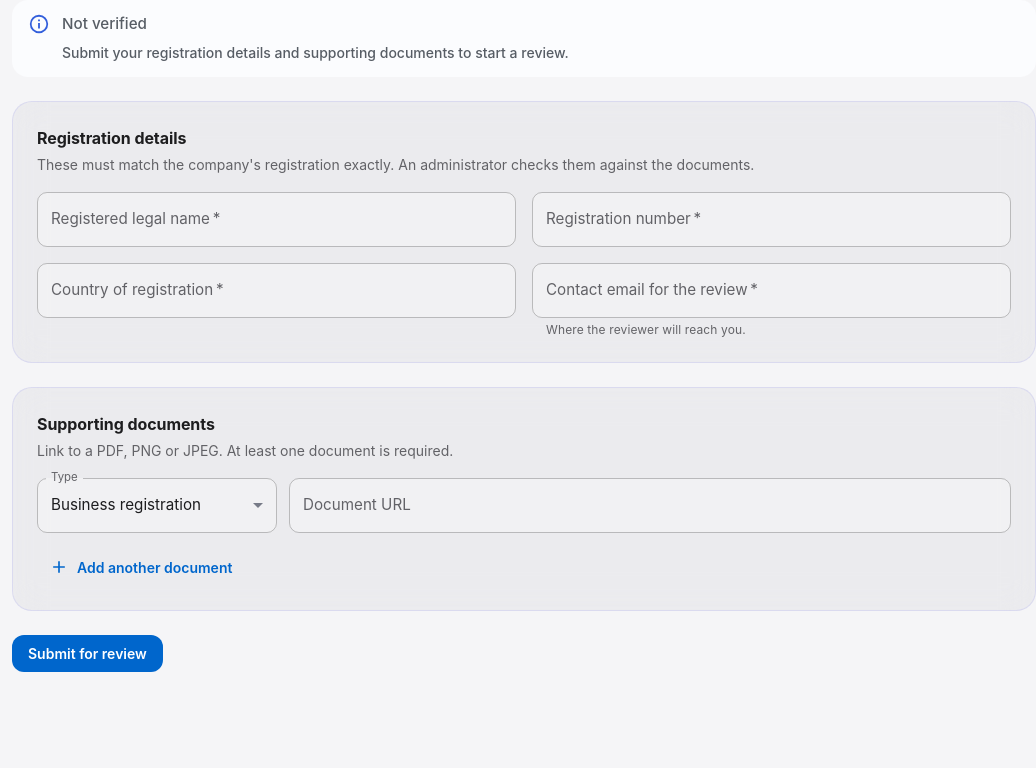
it: CompanyVerification › submitting does not make the company verified
Expected: the text "Not verified" is shown, top-left (62, 14), bottom-right (147, 33)
Type "Northwind Logistics FZE" into the field labelled "Registered legal name *".
click(276, 219); type("Northwind Logistics FZE")  # box top-left (37, 192), bottom-right (516, 247)
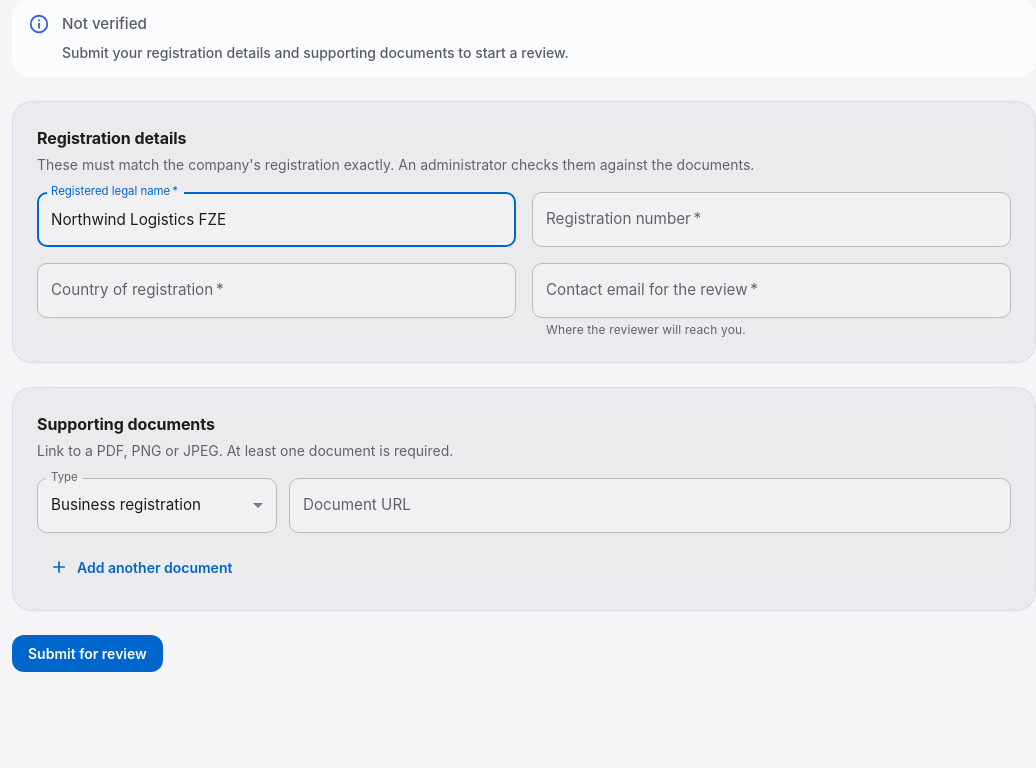
Type "FZE-119284" into the field labelled "Registration number *".
click(772, 219); type("FZE-119284")  # box top-left (532, 192), bottom-right (1011, 247)
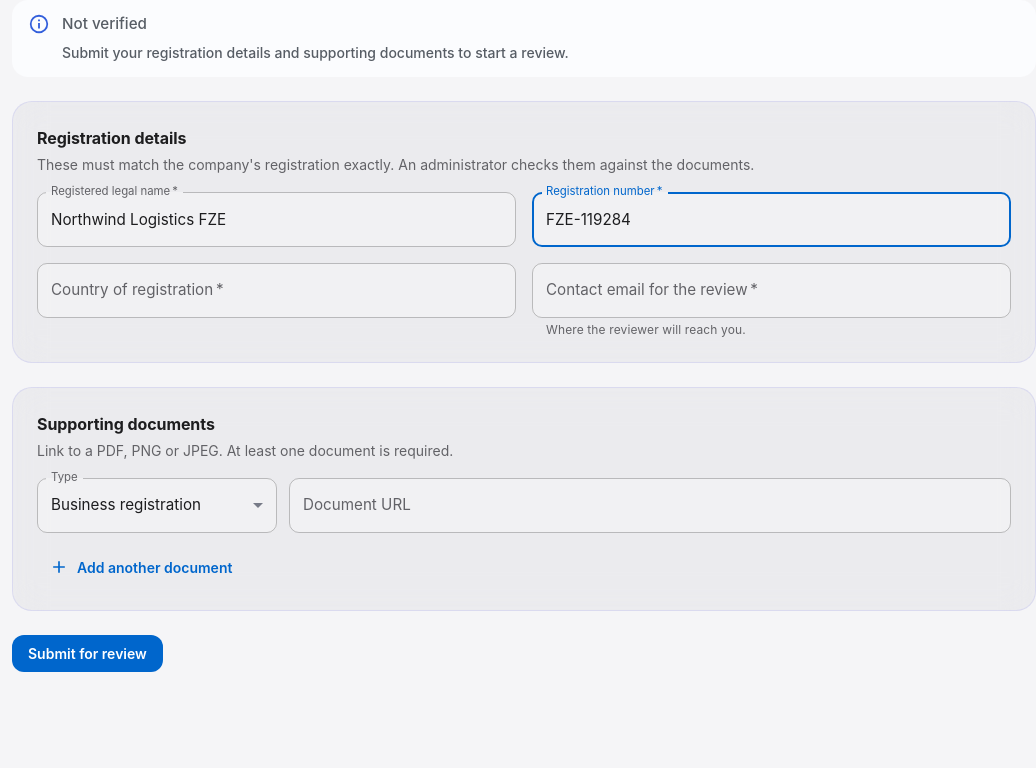
Type "United Arab Emirates" into the field labelled "Country of registration *".
click(276, 290); type("United Arab Emirates")  # box top-left (37, 263), bottom-right (516, 318)
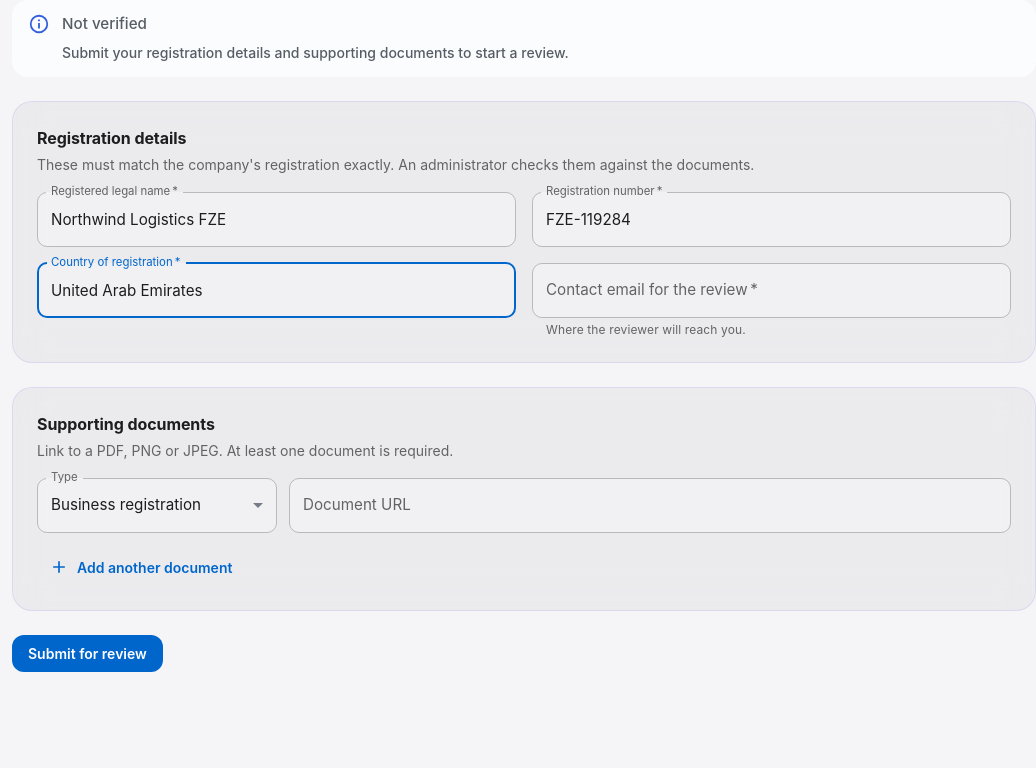
Type "legal@northwind.example" into the field labelled "Contact email for the review *".
click(772, 290); type("legal@northwind.example")  # box top-left (532, 263), bottom-right (1011, 318)
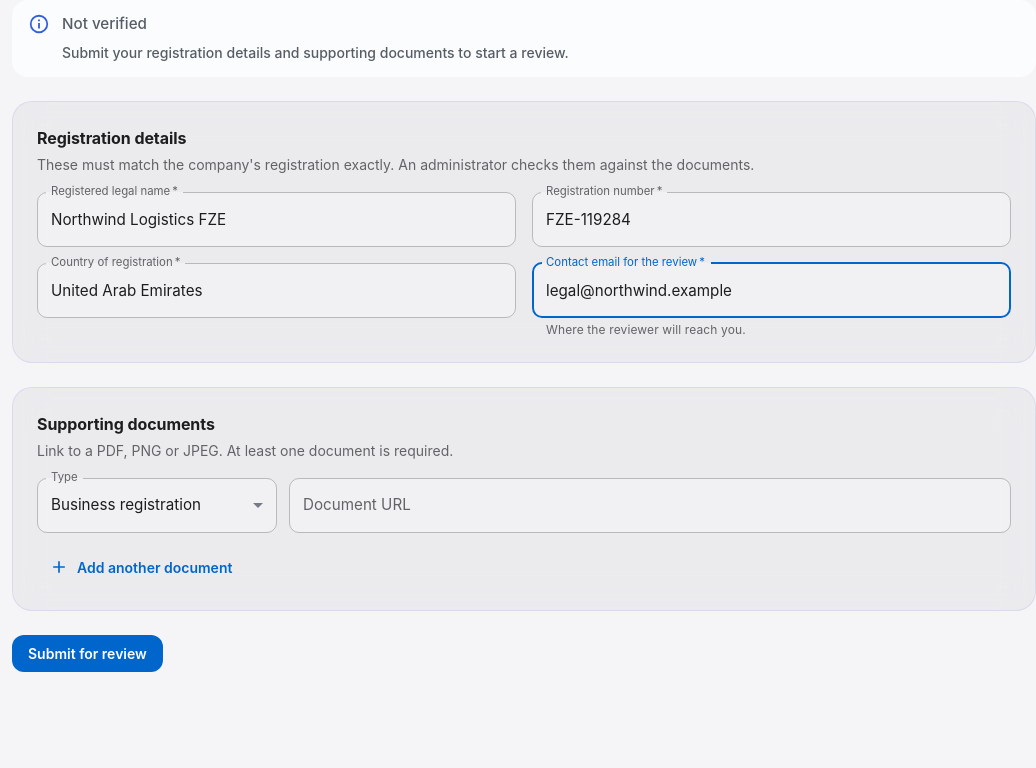
Type "https://northwind.example/docs/registration.pdf" into the field labelled "Document URL".
click(650, 505); type("https://northwind.example/docs/registration.pdf")  # box top-left (289, 478), bottom-right (1011, 533)
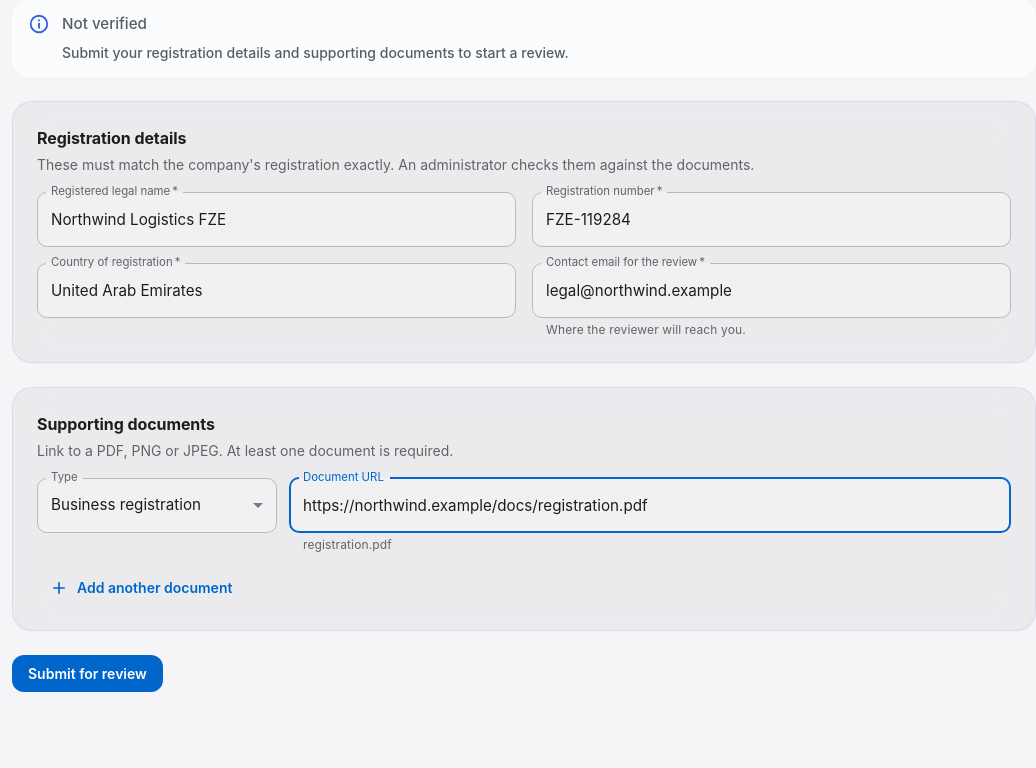
Click the button "Submit for review".
click(87, 674)  # box top-left (12, 655), bottom-right (163, 692)
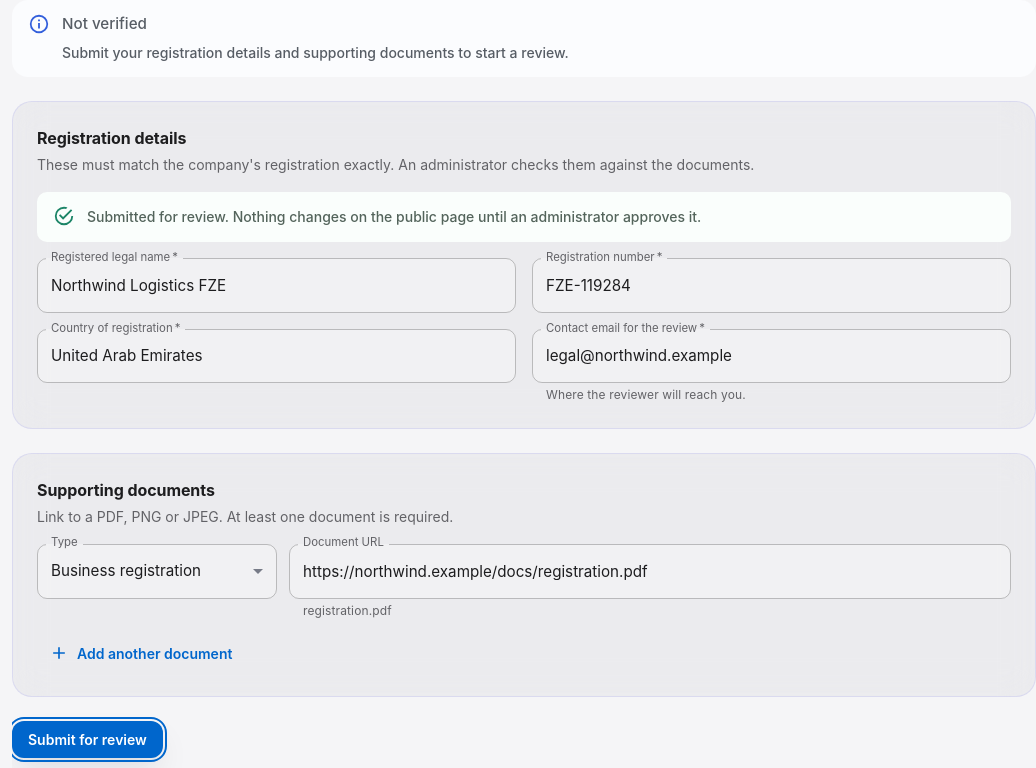
Expected: the text "Not verified" is shown, top-left (62, 14), bottom-right (147, 33)
Now the text "Submitted for review. Nothing changes on the public page until an administrator approves it." is shown, box top-left (87, 208), bottom-right (701, 225)
